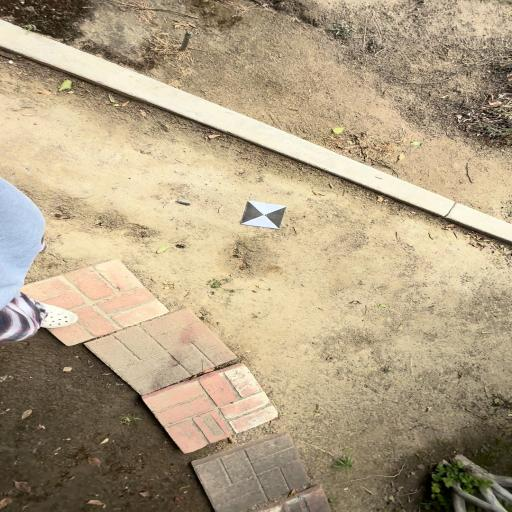target: (242, 201, 287, 230)
